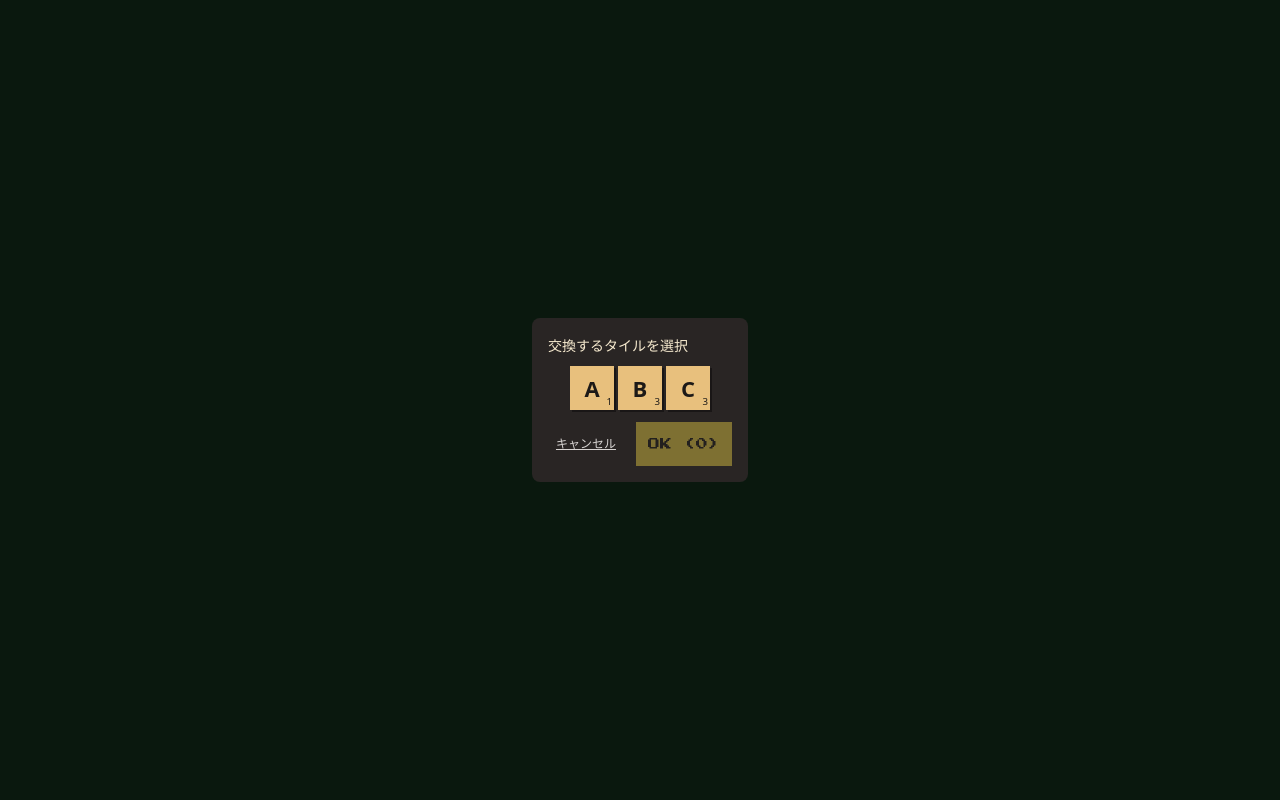
Test: <ExchangeModal> › OK is disabled until at least one tile is selected
The width and height of the screenshot is (1280, 800).
Expected: the button "OK (0)" is disabled, 636,422 -> 732,466
Click the button named "exchange-tile-0".
click(592, 388)  # box 570,366 -> 614,410
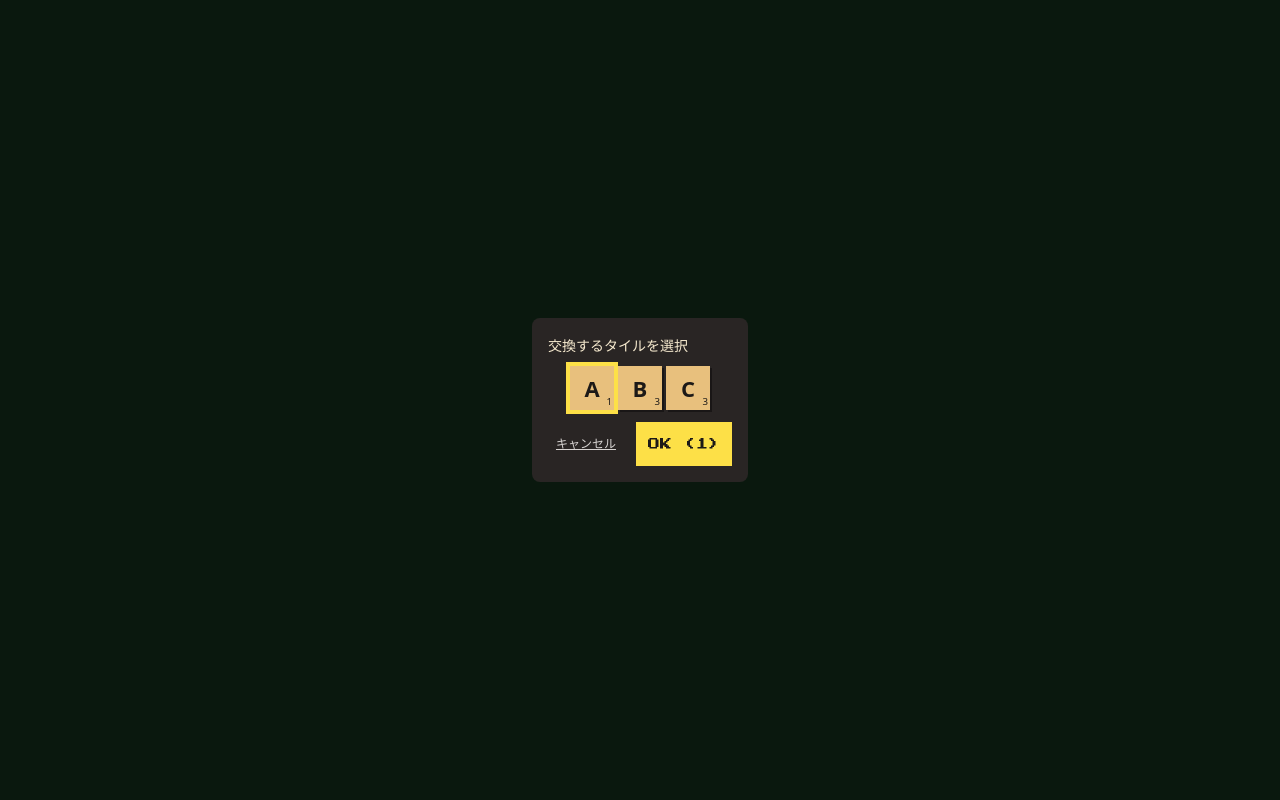
Expected: the button "OK (1)" is enabled, 636,422 -> 732,466
